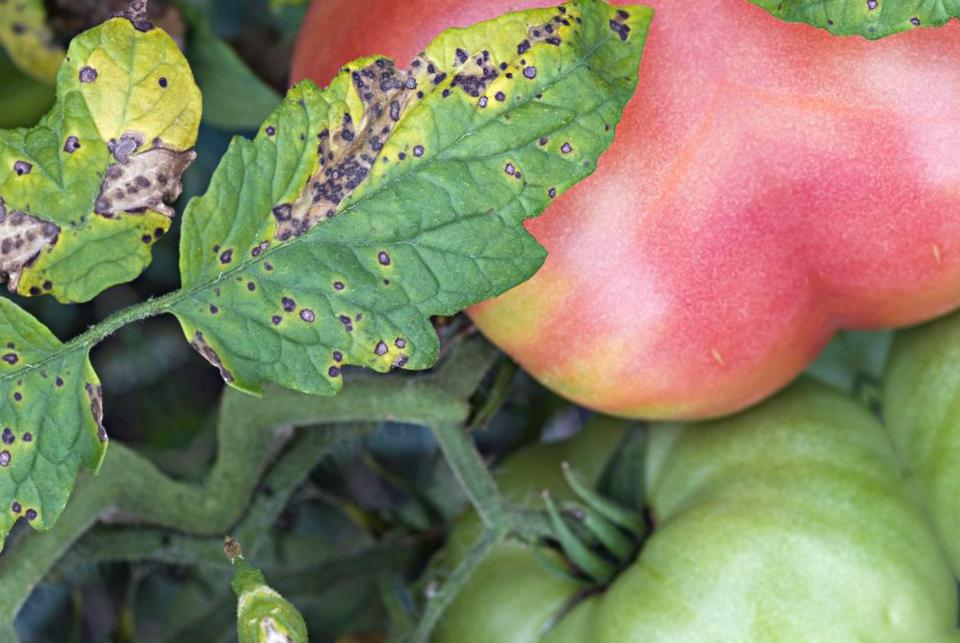Tomato Septoria leaf spot: (97, 0, 732, 435), (3, 0, 263, 288)
